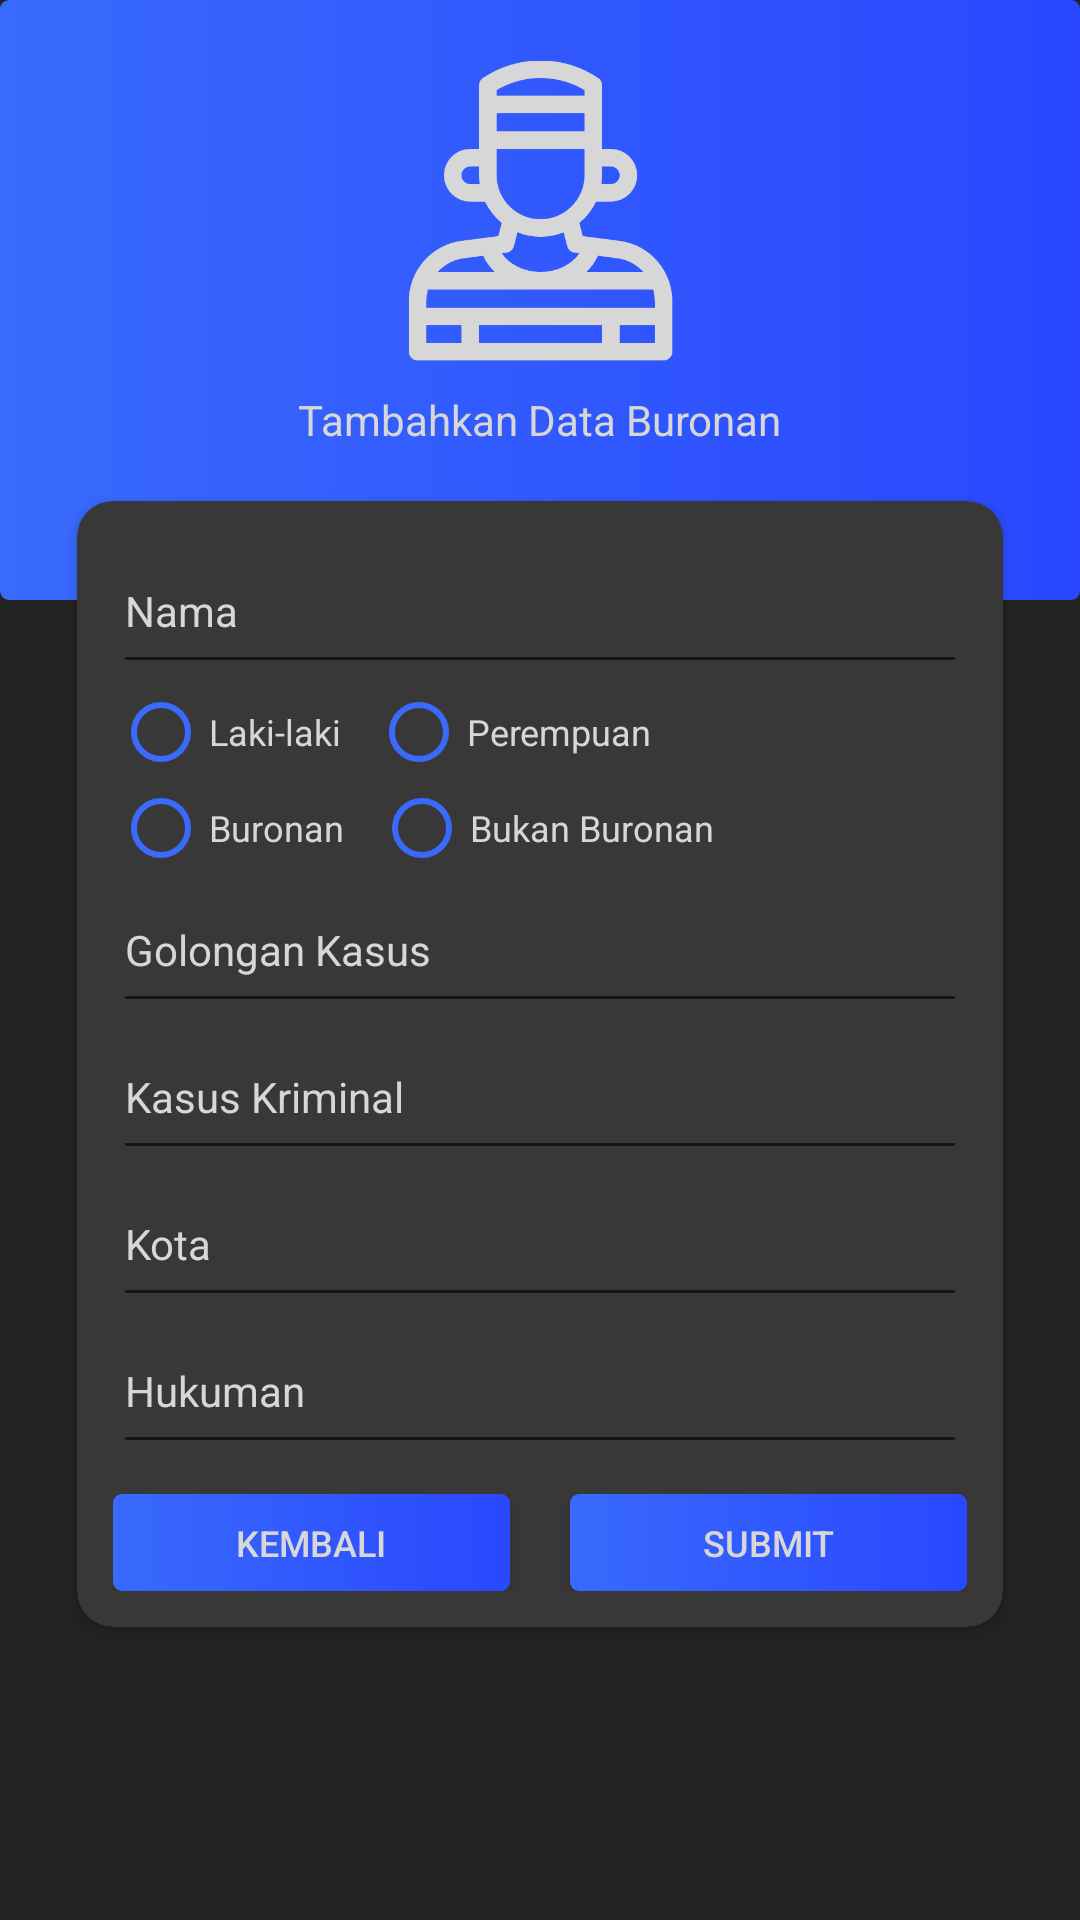

Point at icon controls on the screen. Image size 1080w x 1920h, points as (x,y).
prisoner: (541,211)
